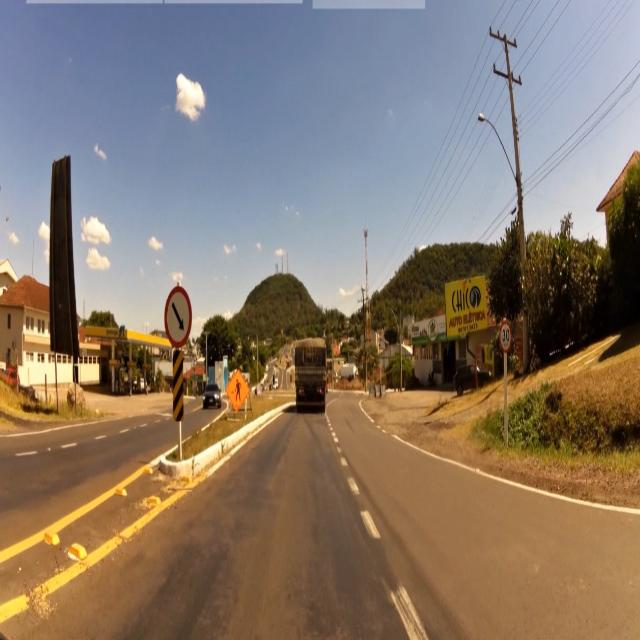R-24b: (164, 290, 194, 346)
